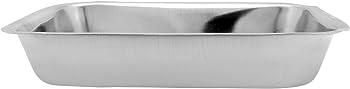Catheter Tray: (5, 2, 346, 88)
